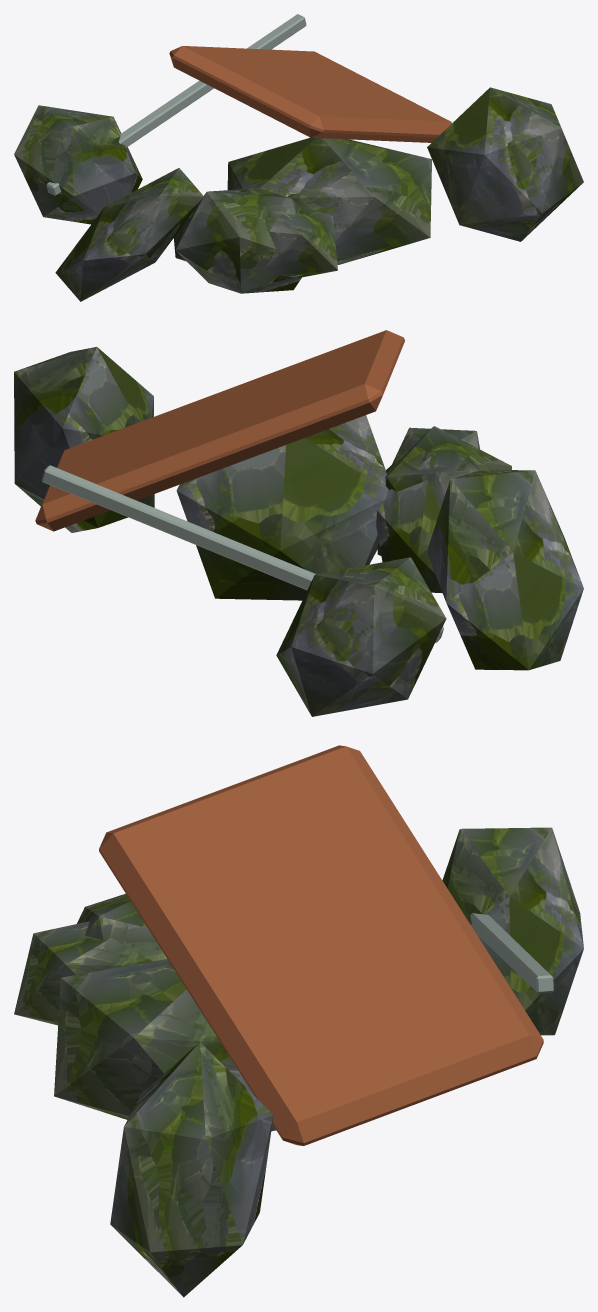
The model's file is Rubble_Cluster_2.glb.
3 views of the same model, one above another, from view 1: azimuth 30°, elevation 25°; view 2: azimuth 150°, elevation 25°; view 3: azimuth 270°, elevation 25° (orthographic). The views are drawn at different scales.
Parts seen in each view (by area): view 1: Rubble_Cluster_2; view 2: Rubble_Cluster_2; view 3: Rubble_Cluster_2.
Part boxes in pixels (<box>): Rubble_Cluster_2: <box>14,14,583,301</box>; Rubble_Cluster_2: <box>14,330,583,716</box>; Rubble_Cluster_2: <box>14,745,583,1297</box>.
Bounding box in the file's own units: 1.84 × 0.8424 × 1.27.
Materials: 3 (1 with a texture image).
